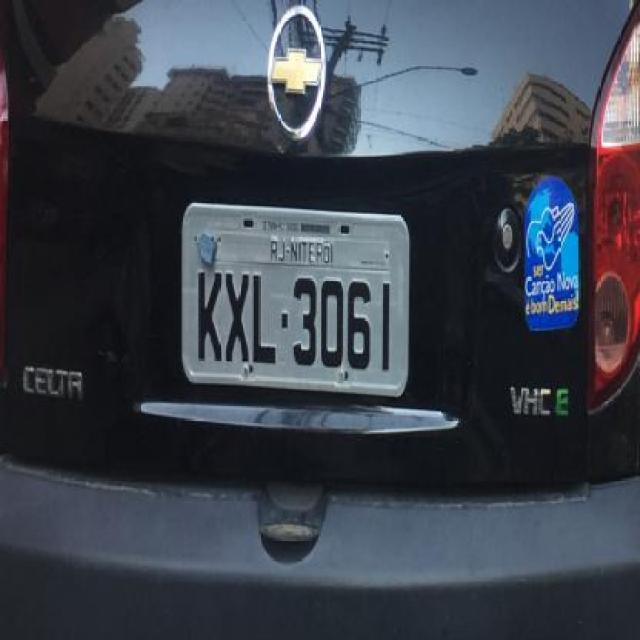old_plate: (174, 196, 417, 403)
